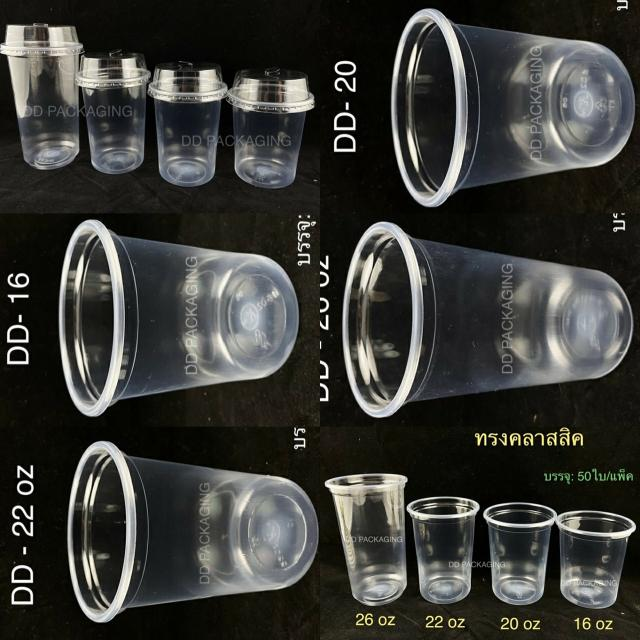Single-Use-Plastic: (343, 222, 633, 417), (392, 9, 634, 206), (59, 220, 299, 416), (68, 441, 318, 622), (0, 24, 84, 170), (325, 474, 407, 606), (226, 68, 314, 189), (149, 61, 228, 186), (75, 50, 150, 173), (555, 511, 635, 609), (407, 496, 479, 603), (483, 502, 557, 605)
